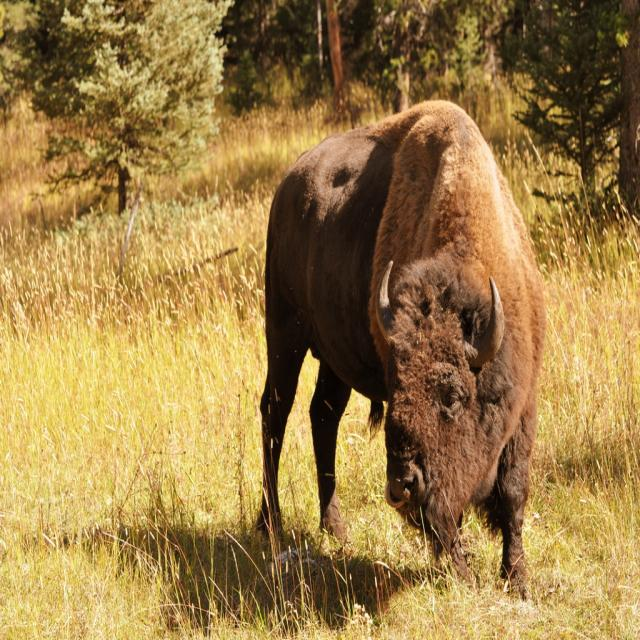Bull: (260, 96, 548, 603)
